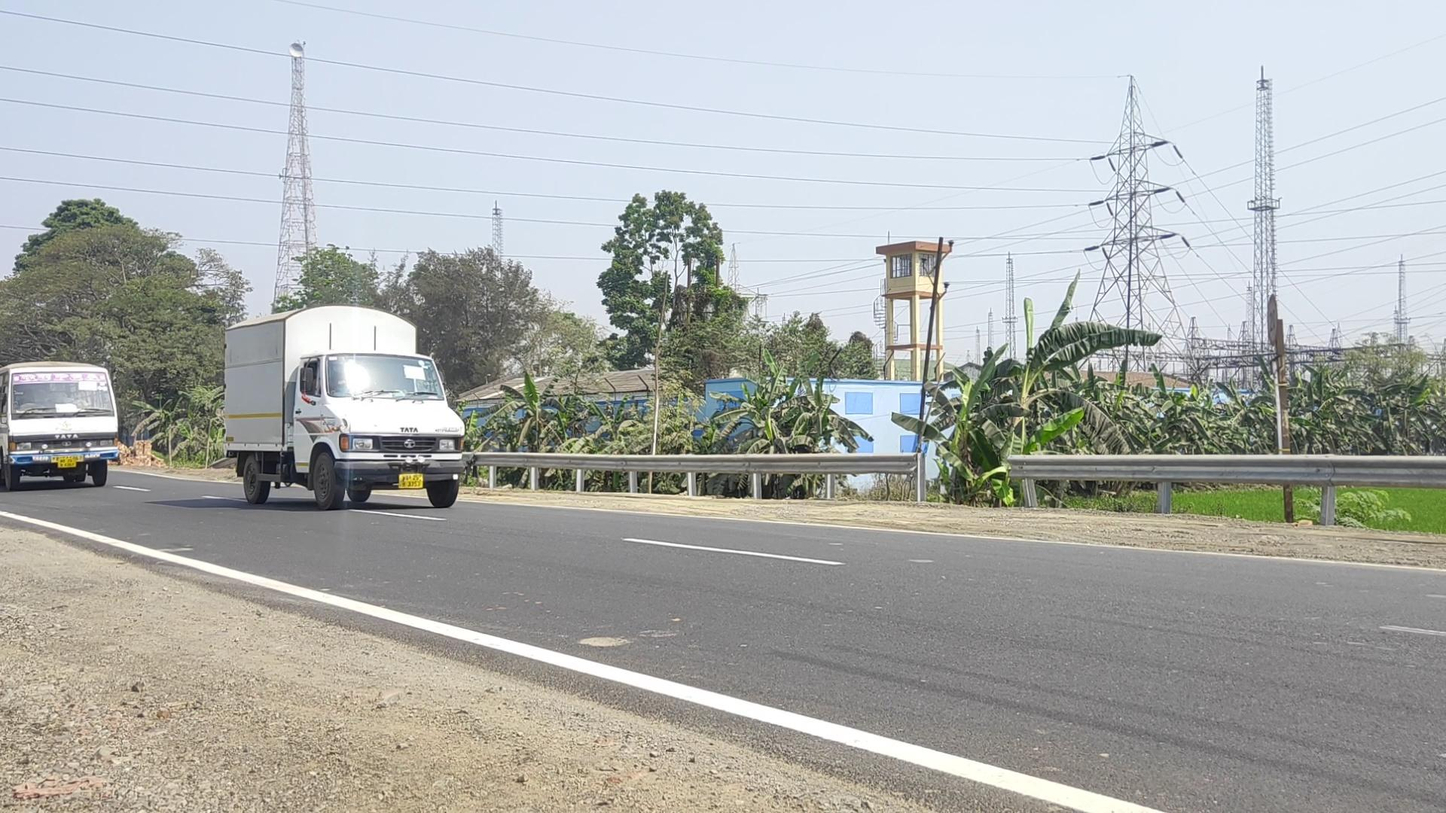Bus: (1, 361, 120, 493)
truck: (223, 305, 465, 511)
